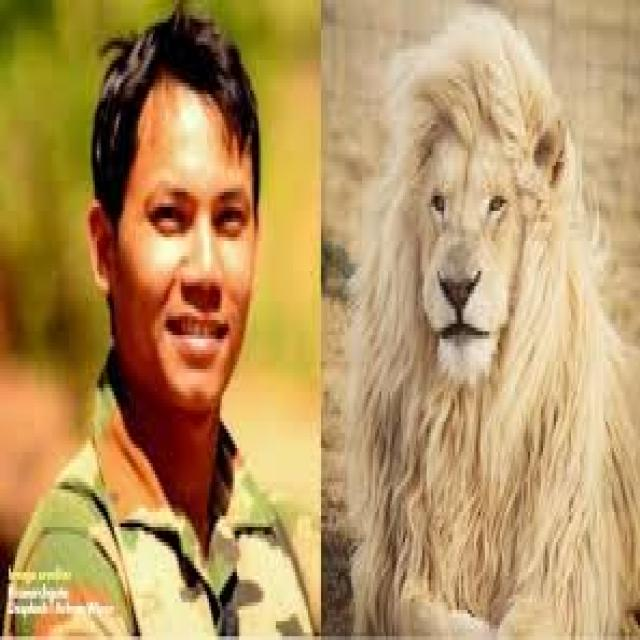Lion: (357, 27, 638, 633)
